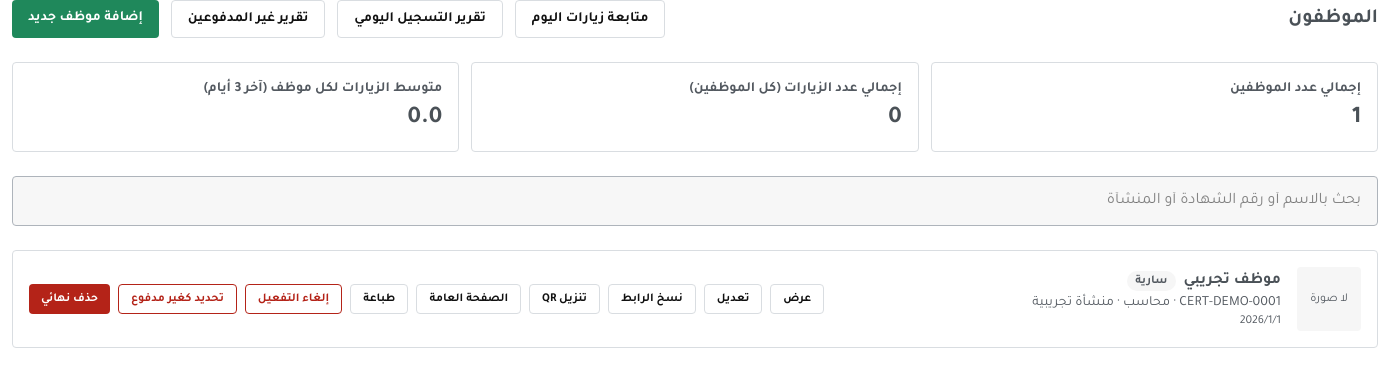
Test: EmployeeListPage permanent delete › deletes the employee and removes them from the list when confirmed
Expected: the text "موظف تجريبي" is shown, left=1184, top=269, right=1281, bottom=293
Click the button "حذف نهائي". click: (70, 299)
box: left=29, top=284, right=110, bottom=314
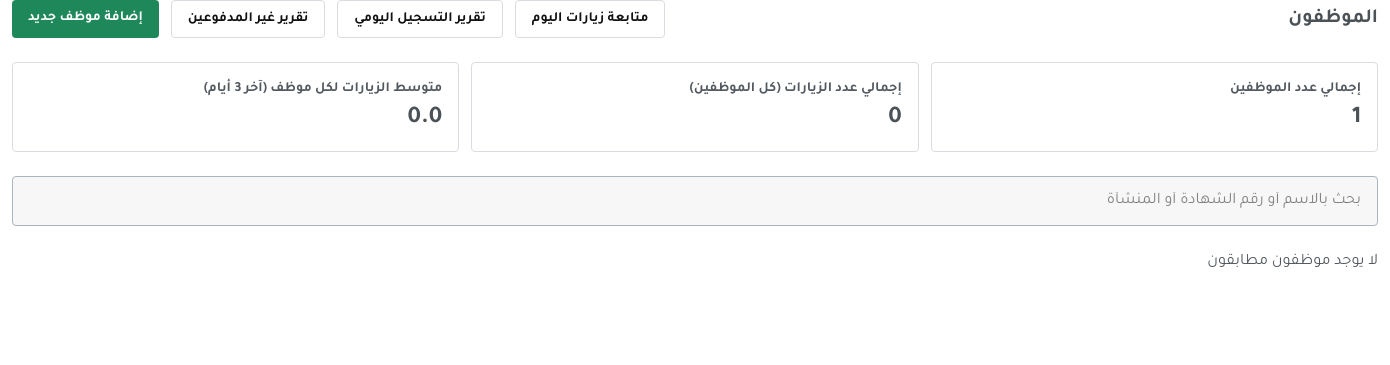
Expected: the text "موظف تجريبي" is gone
